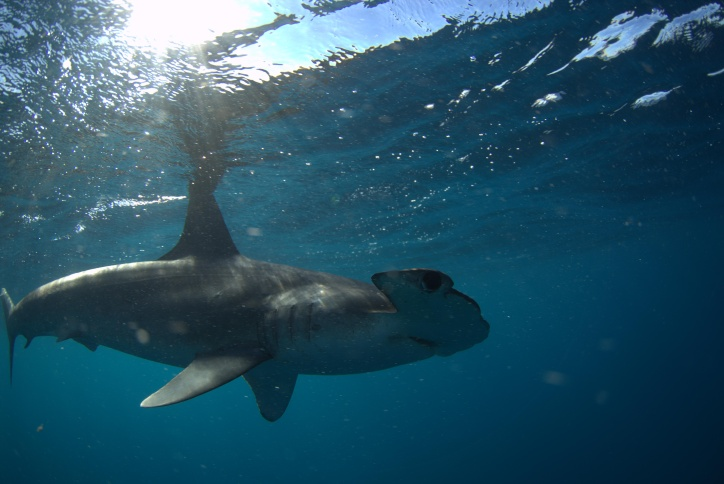Hammer: (1, 156, 520, 436)
